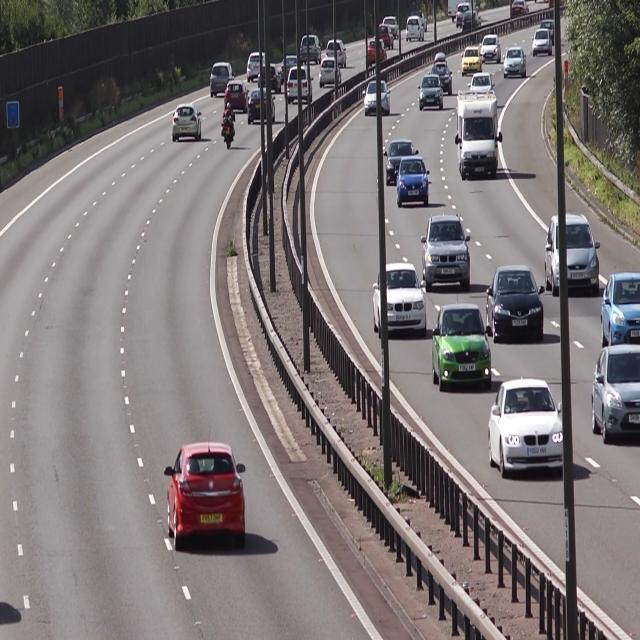Car: (163, 441, 246, 545), (487, 377, 564, 476), (431, 302, 492, 389), (543, 213, 601, 296), (591, 343, 639, 442), (485, 264, 544, 342), (371, 262, 426, 337), (600, 271, 639, 347), (171, 104, 202, 141)
Motorcycle: (220, 114, 235, 149)
